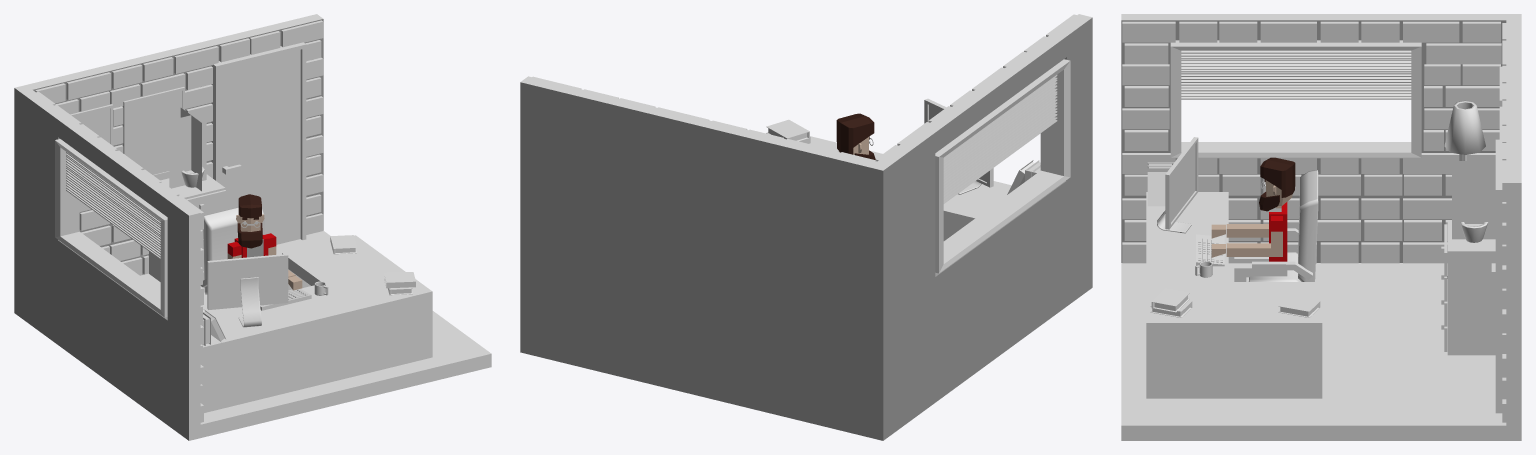
Rendered from Asset  room.fbx.
3 views of the same model, side by side, from view 1: azimuth 30°, elevation 25°; view 2: azimuth 150°, elevation 25°; view 3: azimuth 270°, elevation 25° (orthographic). The views are drawn at different scales.
Parts seen in each view (by area): view 1: Cube.009, Plane, Plane.020, Cube.000, Cube.001, Plane.002, Plane.004, Plane.001, Plane.024, Cube.011, Circle.001, Cube.020 (+4 smaller); view 2: Cube.009, Cube.001, Plane.001, Plane, Cube.011, Cube.002, Cube.006, Plane.002; view 3: Cube.009, Cube.006, Plane, Plane.001, Cube.001, Cube.020, Cube.011, Plane.024, Circle.001, Plane.002, Plane.020, Cube.000 (+5 smaller).
Part boxes in pixels (box(x1,y1,x2,y2)): Cube.009: box(14, 14, 491, 440); Plane: box(200, 235, 432, 412); Plane.020: box(211, 42, 306, 244); Cube.000: box(35, 20, 323, 275); Cube.001: box(55, 139, 167, 317); Plane.002: box(207, 254, 288, 327); Plane.004: box(122, 87, 184, 176); Plane.001: box(66, 152, 160, 259); Plane.024: box(169, 108, 206, 191); Cube.011: box(227, 194, 302, 290); Circle.001: box(200, 207, 264, 294); Cube.020: box(148, 174, 226, 281); Cube.009: box(520, 14, 1092, 440); Cube.001: box(935, 59, 1070, 273); Plane.001: box(943, 75, 1057, 203); Plane: box(766, 133, 1011, 240); Cube.011: box(836, 113, 875, 159); Cube.002: box(766, 119, 1040, 194); Cube.006: box(875, 14, 1076, 161); Plane.002: box(924, 98, 993, 194); Cube.009: box(1121, 14, 1521, 440); Cube.006: box(1122, 21, 1501, 263); Plane: box(1146, 192, 1322, 398); Plane.001: box(1181, 50, 1411, 99); Cube.001: box(1170, 40, 1421, 157); Cube.020: box(1441, 222, 1495, 355); Cube.011: box(1211, 157, 1295, 281); Plane.024: box(1452, 161, 1495, 239); Circle.001: box(1248, 170, 1318, 281); Plane.002: box(1157, 137, 1198, 233); Plane.020: box(1491, 139, 1502, 413); Cube.000: box(1502, 23, 1506, 422).
Size of the model in its own units: 308 by 217 by 305.
